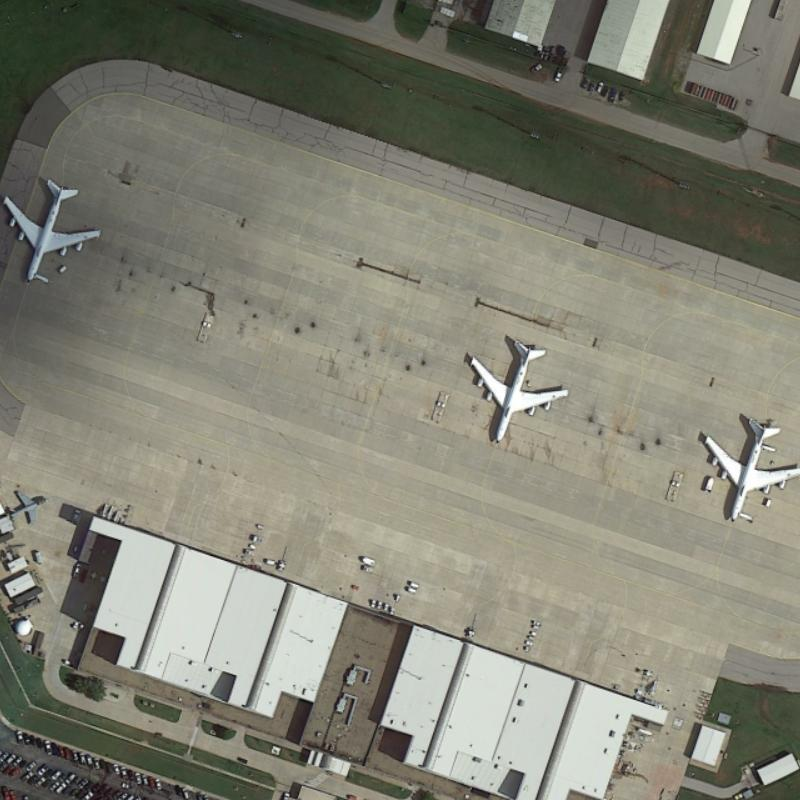A11: (461, 330, 572, 442), (693, 407, 799, 523), (1, 168, 104, 282)
